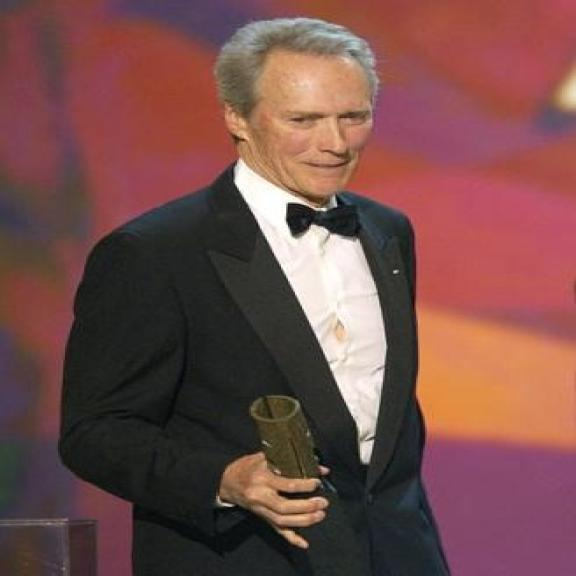face: (219, 45, 376, 199)
